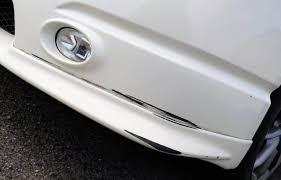scratch: (18, 46, 207, 133), (116, 125, 195, 161)
